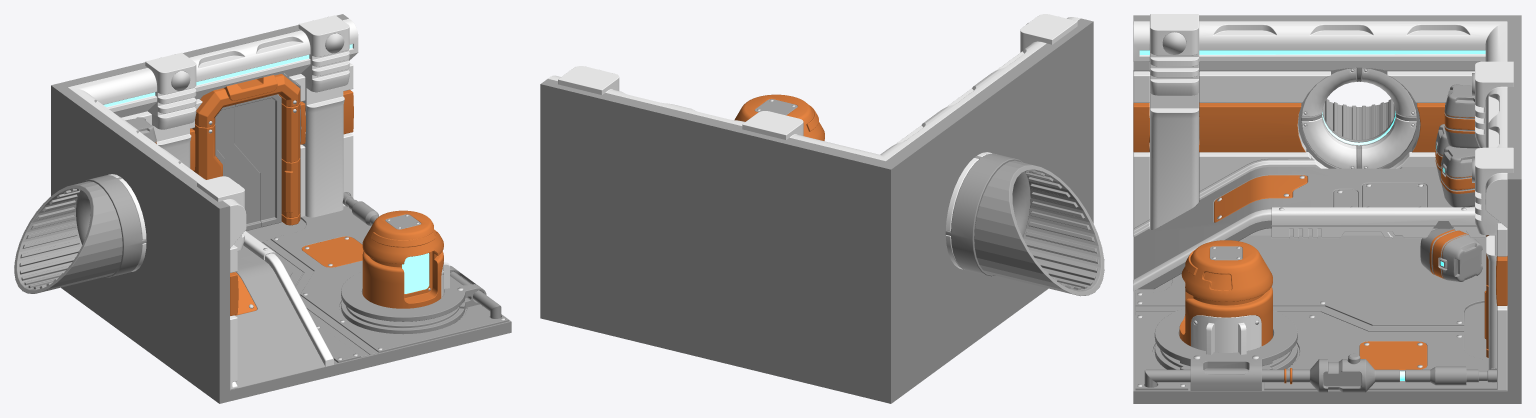
Rendered from Sci-FiCorrido.glb.
The picture shows the model from 3 angles, left to right: view 1: azimuth 30°, elevation 25°; view 2: azimuth 150°, elevation 25°; view 3: azimuth 270°, elevation 25°; orthographic projection. The views are drawn at different scales.
Parts seen in each view (by area): view 1: wall, wallStructure, floor, Cylinder.005, platform, door, generator, Circle.004, wall.003, wallPanels, Cylinder.003, wall.004 (+6 smaller); view 2: wall, Cylinder.005, wallStructure, Cylinder.003, generator, entrance; view 3: wallStructure, floor, wallPanels, wall, platform, generator, Circle.004, Vert, pipe, entrance, crate, Circle (+12 smaller).
Part boxes in pixels (bbox=[...]): wall: bbox=[51, 14, 511, 403]; wallStructure: bbox=[68, 15, 358, 272]; floor: bbox=[261, 206, 508, 362]; Cylinder.005: bbox=[14, 181, 122, 293]; platform: bbox=[230, 245, 325, 389]; door: bbox=[192, 74, 300, 225]; generator: bbox=[362, 210, 443, 308]; Circle.004: bbox=[341, 265, 486, 334]; wall.003: bbox=[234, 94, 281, 227]; wallPanels: bbox=[121, 63, 353, 389]; Cylinder.003: bbox=[76, 175, 146, 277]; wall.004: bbox=[215, 104, 261, 230]; wall: bbox=[540, 18, 1093, 403]; Cylinder.005: bbox=[974, 160, 1104, 296]; wallStructure: bbox=[548, 14, 1080, 160]; Cylinder.003: bbox=[945, 153, 1030, 276]; generator: bbox=[734, 94, 824, 140]; entrance: bbox=[946, 152, 991, 269]; wallStructure: bbox=[1133, 14, 1513, 382]; floor: bbox=[1135, 235, 1496, 390]; wallPanels: bbox=[1133, 71, 1507, 390]; wall: bbox=[1133, 15, 1521, 403]; platform: bbox=[1134, 167, 1474, 289]; generator: bbox=[1179, 240, 1272, 346]; Circle.004: bbox=[1154, 308, 1297, 390]; Vert: bbox=[1271, 207, 1484, 238]; pipe: bbox=[1144, 353, 1496, 392]; entrance: bbox=[1301, 68, 1416, 168]; crate: bbox=[1420, 228, 1482, 281]; Circle: bbox=[1191, 315, 1261, 354].
Size of what is drawn, in the model's own units: 11.24 by 5.41 by 8.3.
